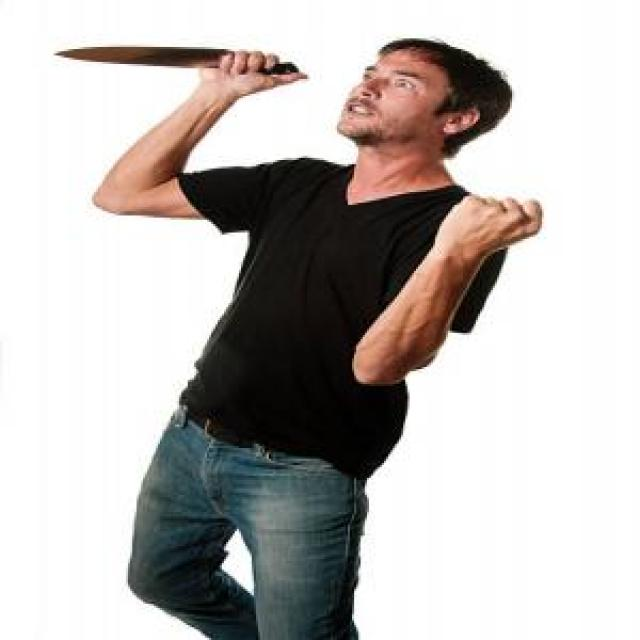knife: (51, 45, 306, 72)
